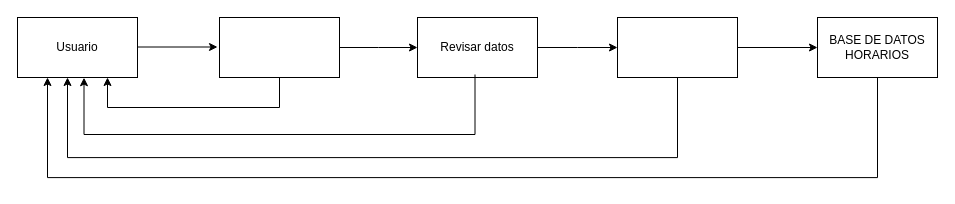
This 955x204 diagram has some shape labels left out. Each missing label, with the centre of its shape:
"Confirmar horarios" goes at (677,47).
"Ver horarios" goes at (279,47).
